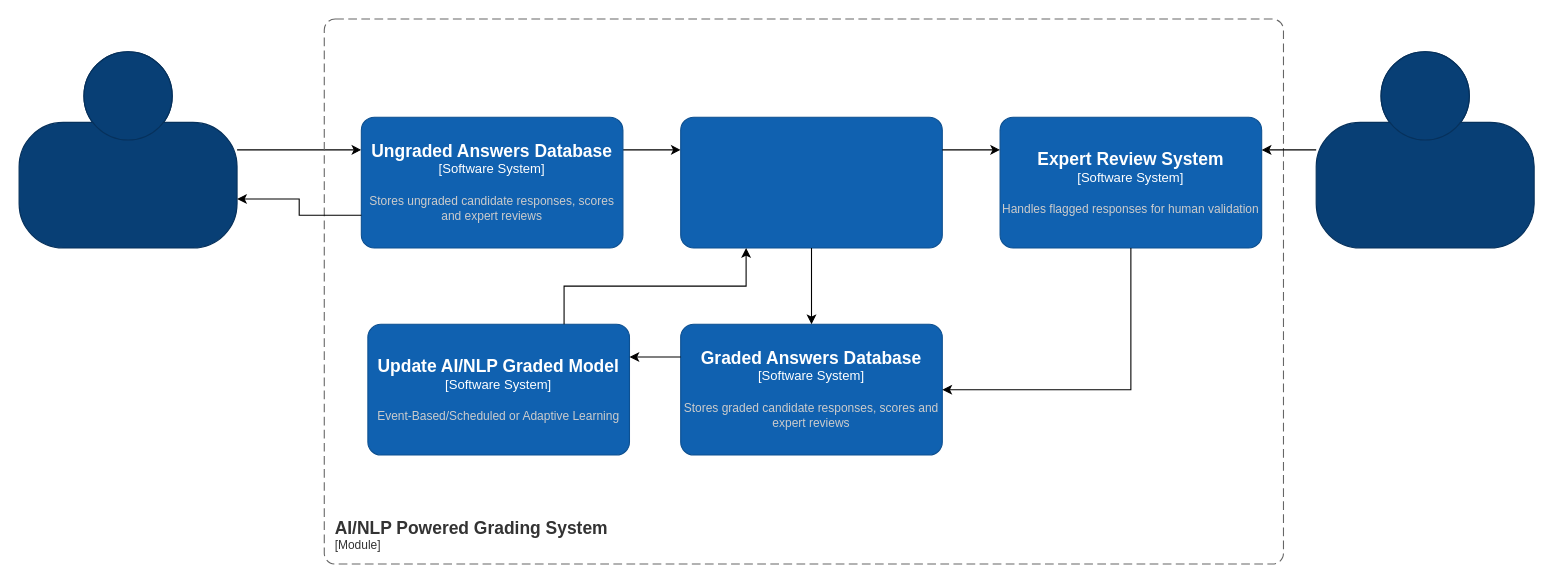
The diagram is 1553 pixels wide and 583 high, and some of its shapes have lost their labels. The centre of each missing label's shape, as x and y in pixels:
AI/NLP Grading Model [Software System] Evaluates and scores responses: the point at 811,182
Candidate [Person] Submits short-answer responses: the point at 127,149
Expert [Person] Reviews flagged responses: the point at 1424,149
